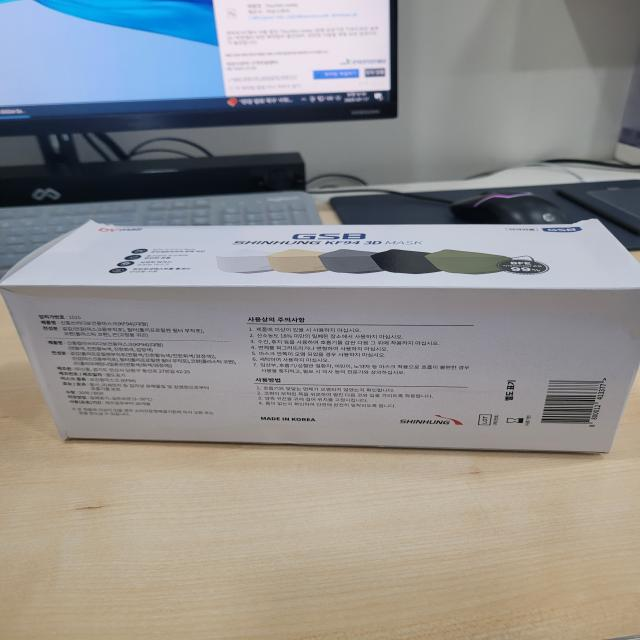mask: (0, 211, 640, 468)
